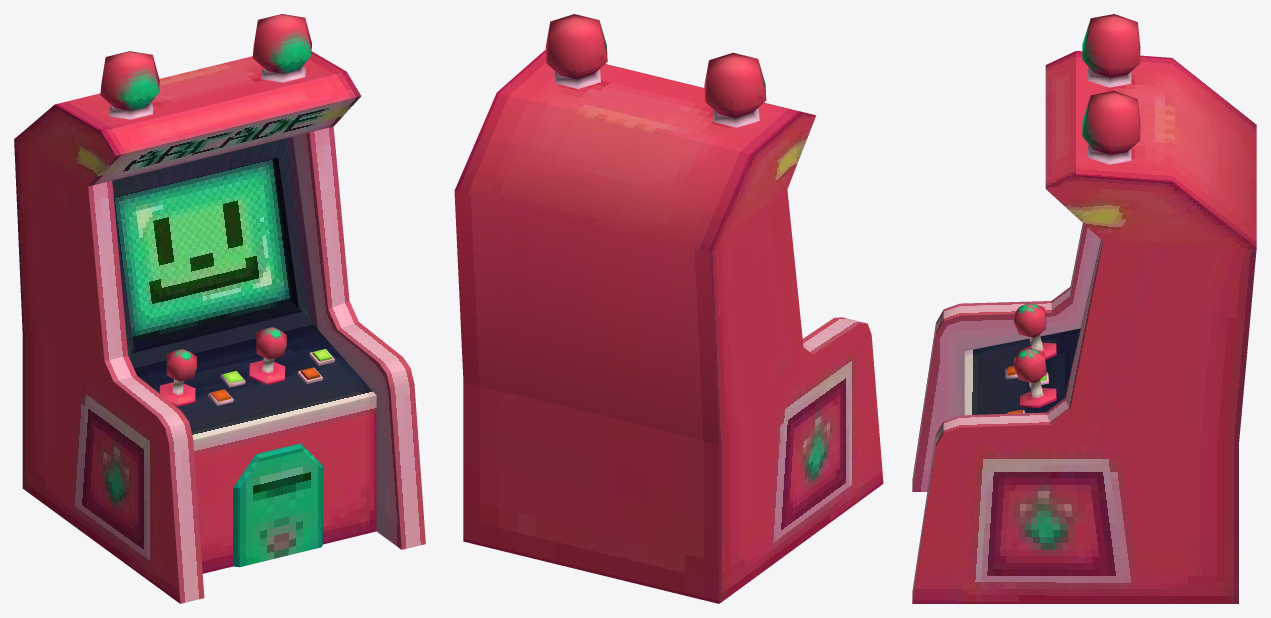
File: kawaiiArcade-transformed.glb
3 renders of one model, left to right at view 1: azimuth 30°, elevation 25°; view 2: azimuth 150°, elevation 25°; view 3: azimuth 270°, elevation 25°, orthographic. The views are drawn at different scales.
Visible parts, largest first — view 1: arcade_machine_MAT_arcade_0; view 2: arcade_machine_MAT_arcade_0; view 3: arcade_machine_MAT_arcade_0.
Boxes of the visible parts, x1,y1,x2,y2 form: arcade_machine_MAT_arcade_0: [14, 14, 425, 603]; arcade_machine_MAT_arcade_0: [454, 14, 883, 603]; arcade_machine_MAT_arcade_0: [912, 14, 1256, 603].
Bounding box in the file's own units: 0.0189 × 0.0344 × 0.0221.
1 material, 1 textured.
